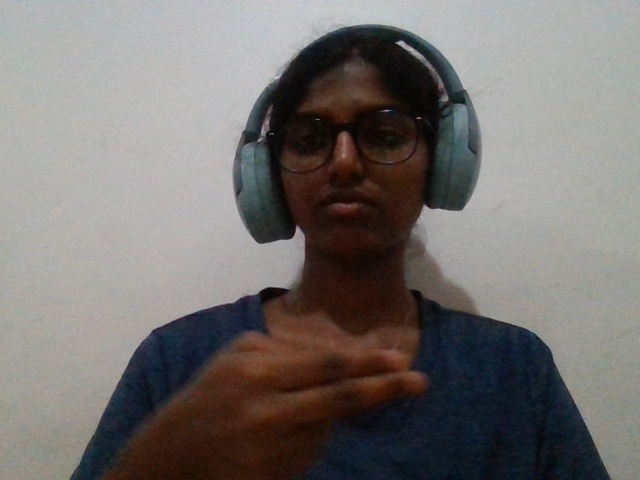H: (145, 302, 466, 480)
